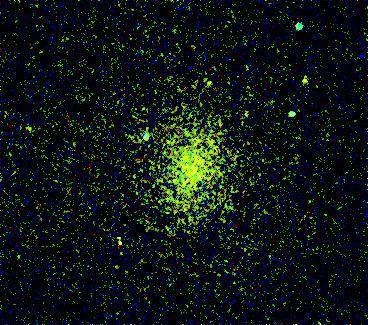star: (288, 66, 318, 96)
